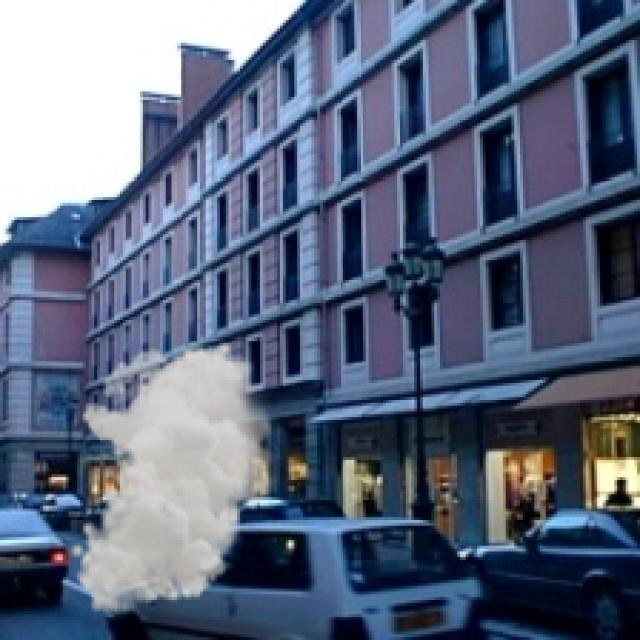Smoke: (68, 340, 283, 614)
